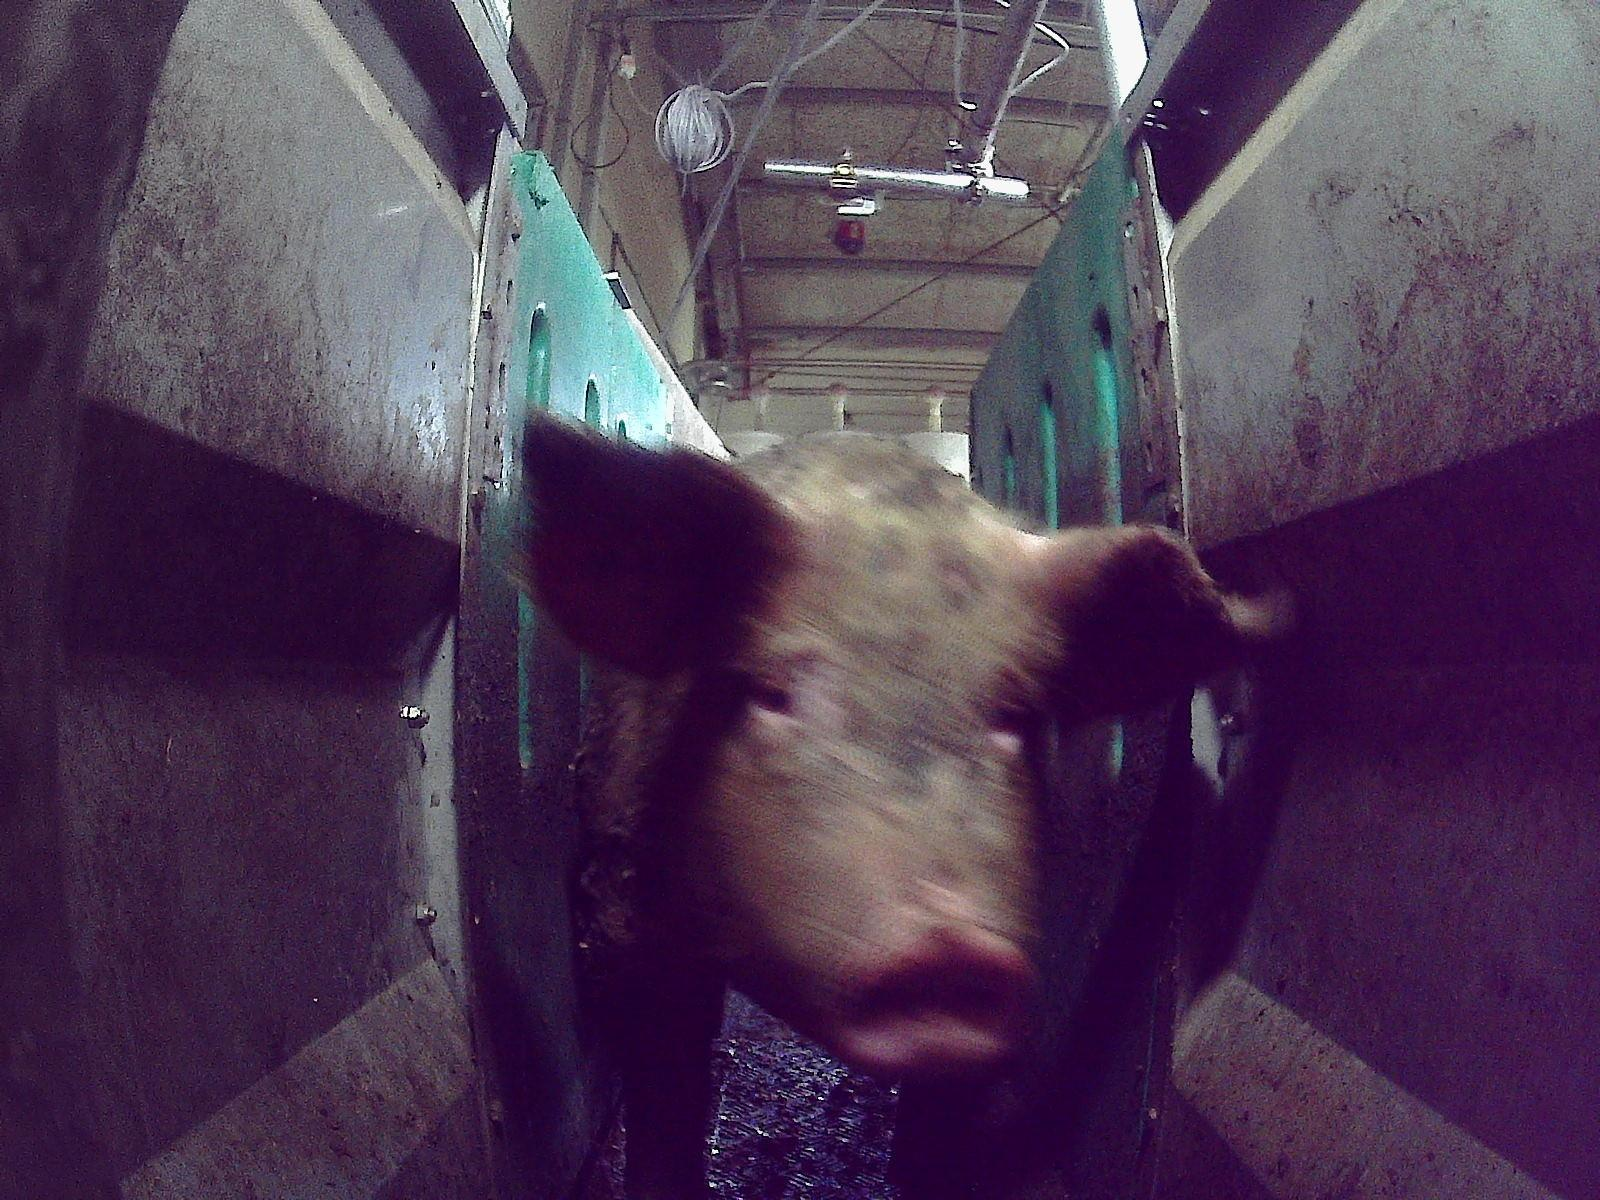Face: (678, 511, 1063, 1080)
